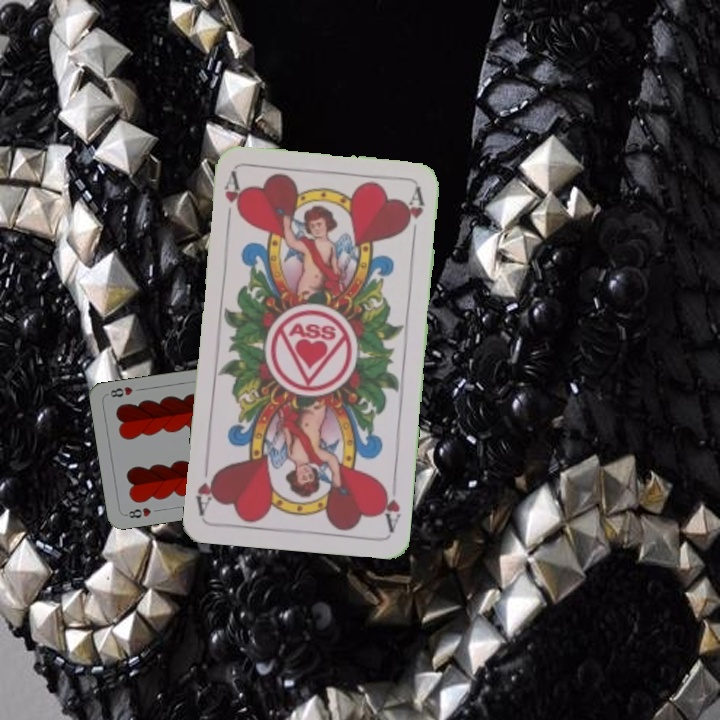H8: (121, 503, 154, 521)
HA: (376, 474, 404, 533), (219, 169, 246, 228)
